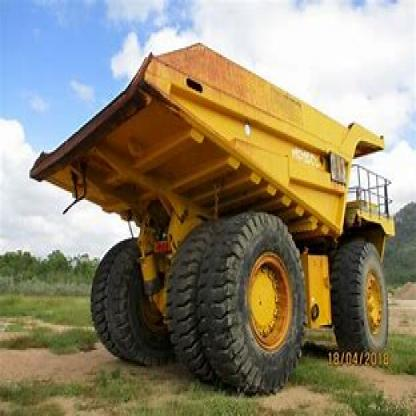dump_truck: (25, 39, 407, 393)
